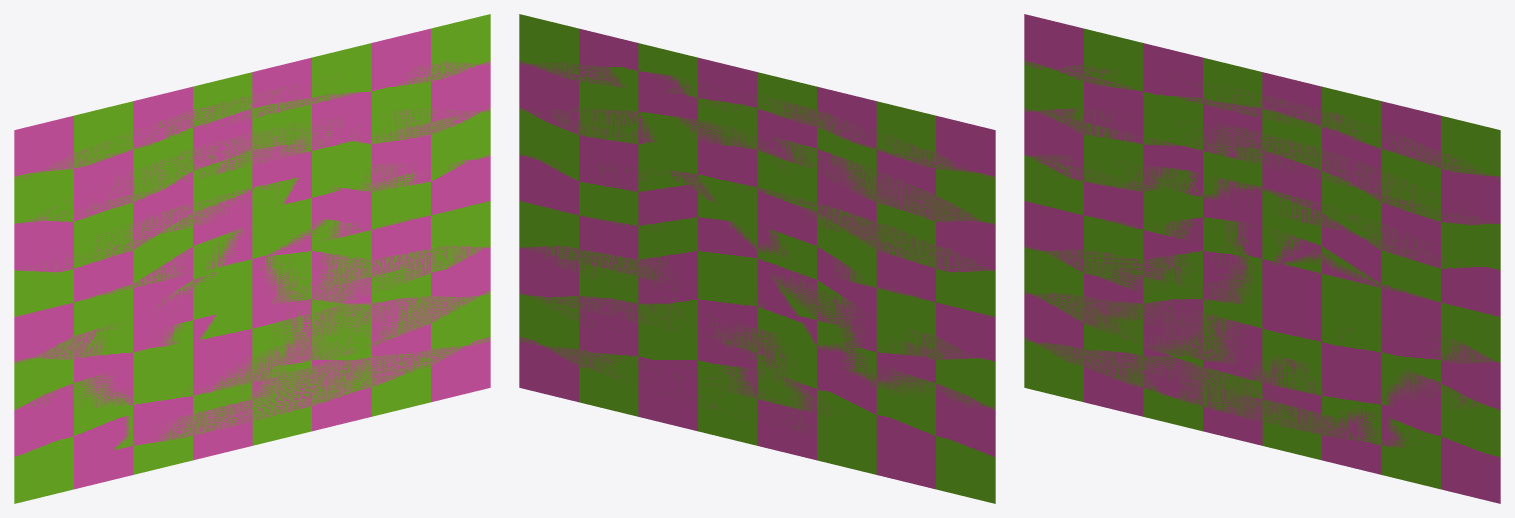
File: eye_area.fbx
3 views of the same model, side by side, from view 1: azimuth 30°, elevation 25°; view 2: azimuth 150°, elevation 25°; view 3: azimuth 330°, elevation 25° (orthographic).
Visible parts, largest first — view 1: eye_1, eye_0, eye; view 2: eye_1, eye_0, eye; view 3: eye_1, eye_0, eye.
Part boxes in pixels (left/top/right/bottom): eye_1: left=14, top=14, right=490, bottom=503; eye_0: left=14, top=15, right=490, bottom=503; eye: left=14, top=16, right=490, bottom=502; eye_1: left=519, top=14, right=995, bottom=503; eye_0: left=519, top=14, right=995, bottom=503; eye: left=519, top=16, right=995, bottom=500; eye_1: left=1024, top=14, right=1500, bottom=503; eye_0: left=1024, top=14, right=1500, bottom=503; eye: left=1024, top=30, right=1500, bottom=487.
Bounding box in the file's own units: 2 × 1.5 × 6.56e-08.
1 material, 1 textured.
